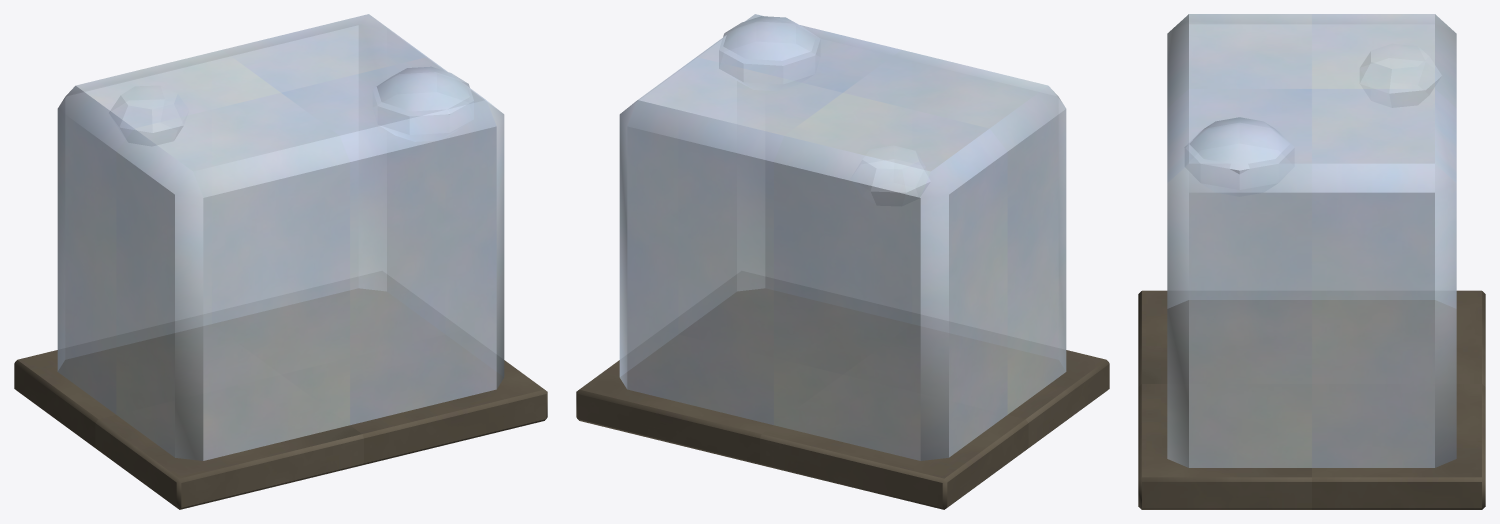
File: prop_ice_block.glb
The picture shows the model from 3 angles, left to right: view 1: azimuth 30°, elevation 25°; view 2: azimuth 150°, elevation 25°; view 3: azimuth 270°, elevation 25°; orthographic projection. The views are drawn at different scales.
Parts seen in each view (by area): view 1: Ice, Body; view 2: Ice, Body; view 3: Ice, Body.
Part boxes in pixels (bbox=[...]): Ice: bbox=[57, 14, 504, 460]; Body: bbox=[14, 288, 547, 509]; Ice: bbox=[619, 14, 1066, 460]; Body: bbox=[576, 288, 1109, 509]; Ice: bbox=[1167, 14, 1456, 467]; Body: bbox=[1138, 290, 1485, 509].
Size of the model in its own units: 0.62 by 0.528 by 0.48.
Materials: 3 (3 with a texture image).
